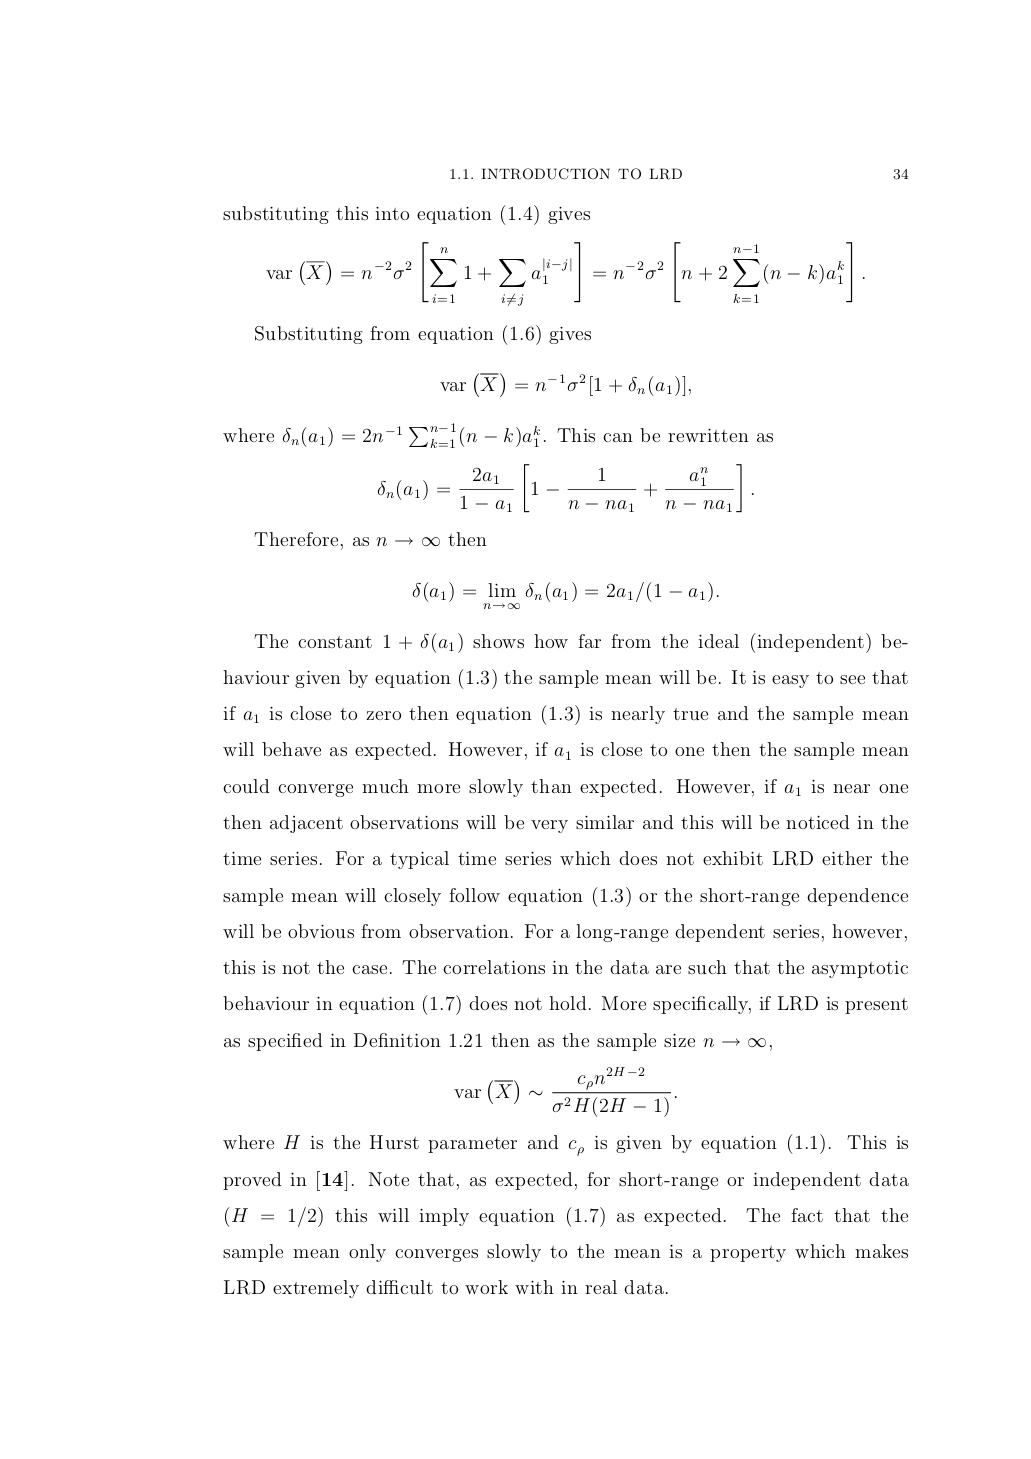formula: (266, 241, 864, 306), (377, 462, 753, 513), (454, 1065, 676, 1117), (412, 581, 717, 610), (440, 371, 690, 397)
